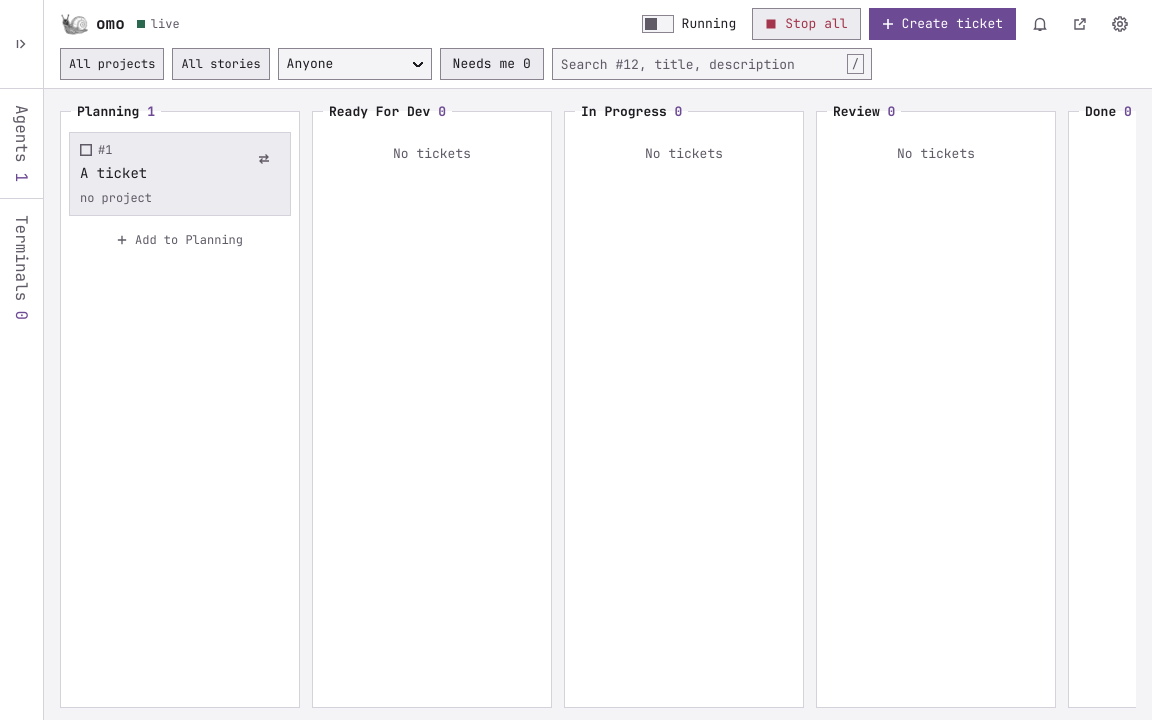
Test: stop all asks first, says what it does, and shows a refusal in the server words
Click the button with aria-label "Stop all agents". click: x=806, y=24
box: [752, 8, 861, 40]
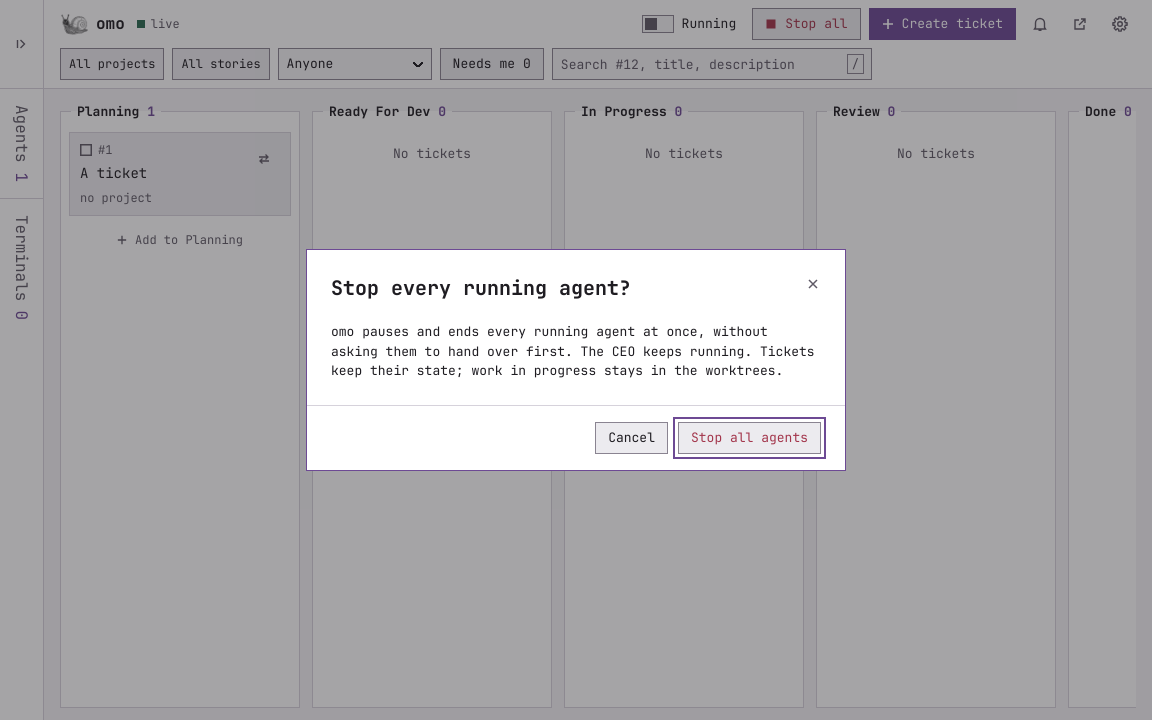
Result: the dialog shows "Stop every running agent?" at [331, 275, 631, 301]
Result: the dialog shows "The CEO keeps running" at [581, 343, 752, 360]
Result: the dialog shows "pauses" at [331, 323, 768, 360]
Click the button "Stop all agents". click: x=750, y=438
box: [678, 422, 821, 454]
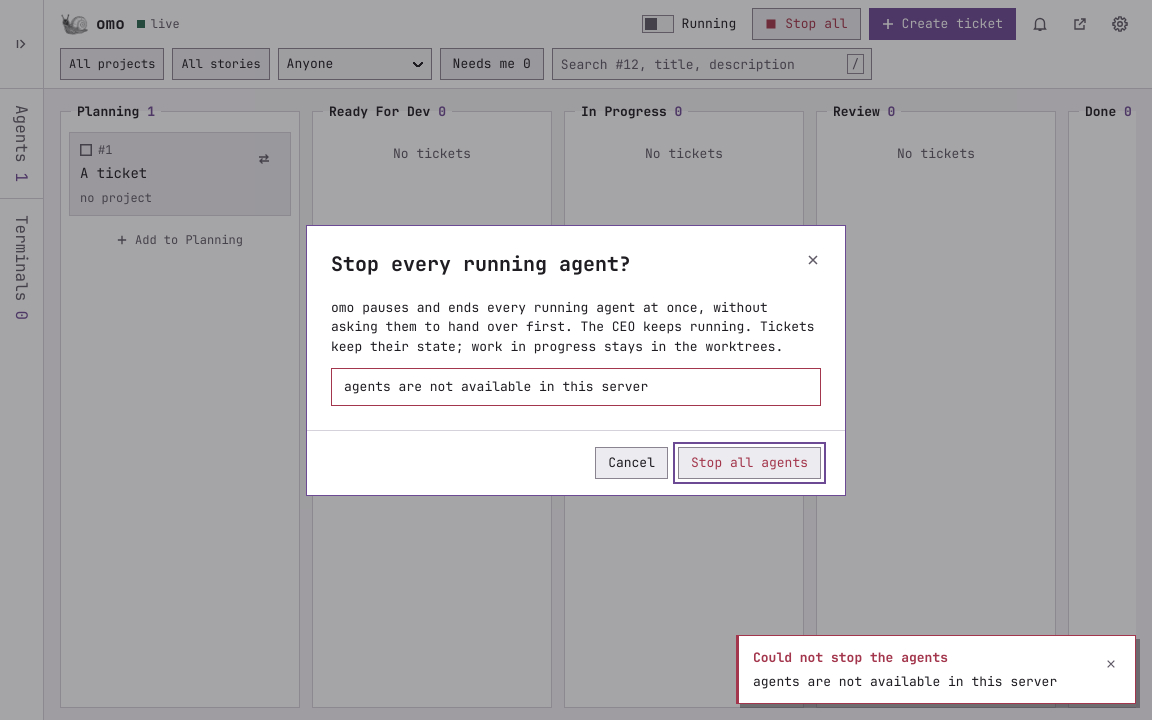
Result: the message "agents are not available in this server" is shown at [331, 368, 821, 406]
